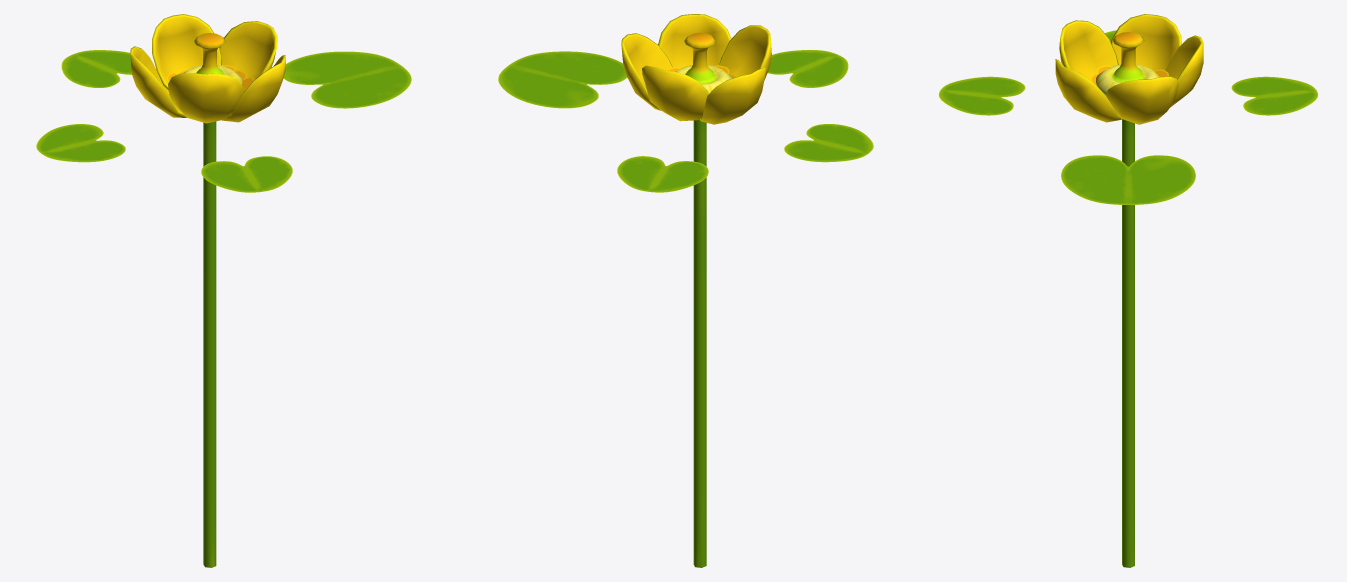
File: obj_WaterLily_Big.fbx
3 views of the same model, side by side, from view 1: azimuth 30°, elevation 25°; view 2: azimuth 150°, elevation 25°; view 3: azimuth 270°, elevation 25° (orthographic).
Parts seen in each view (by area): view 1: Pestle_low, Leaf_b_high, Petal_low002, Petal_low, Leaf_s_low001, Leaf_s_low002, Petal_low004, Leaf_s_low, Petal_low001, Petal_low003; view 2: Pestle_low, Leaf_b_high, Petal_low, Leaf_s_low001, Leaf_s_low, Petal_low001, Leaf_s_low002, Petal_low003, Petal_low002, Petal_low004; view 3: Pestle_low, Leaf_b_high, Petal_low004, Leaf_s_low, Leaf_s_low002, Petal_low003, Petal_low002, Petal_low001, Petal_low.
Boxes of the visible parts, bbox=[...] form: Pestle_low: bbox=[183, 33, 242, 567]; Leaf_b_high: bbox=[283, 51, 411, 108]; Petal_low002: bbox=[168, 73, 243, 123]; Petal_low: bbox=[152, 14, 221, 89]; Leaf_s_low001: bbox=[36, 124, 125, 162]; Leaf_s_low002: bbox=[201, 156, 292, 192]; Petal_low004: bbox=[219, 21, 277, 79]; Leaf_s_low: bbox=[61, 50, 131, 87]; Petal_low001: bbox=[222, 55, 285, 122]; Petal_low003: bbox=[130, 46, 186, 117]; Pestle_low: bbox=[675, 33, 731, 567]; Leaf_b_high: bbox=[498, 51, 626, 108]; Petal_low: bbox=[642, 65, 708, 121]; Leaf_s_low001: bbox=[784, 124, 873, 162]; Leaf_s_low: bbox=[617, 156, 708, 192]; Petal_low001: bbox=[658, 14, 731, 68]; Leaf_s_low002: bbox=[767, 50, 848, 87]; Petal_low003: bbox=[700, 67, 766, 124]; Petal_low002: bbox=[719, 25, 771, 80]; Petal_low004: bbox=[621, 33, 672, 110]; Pestle_low: bbox=[1096, 32, 1159, 567]; Leaf_b_high: bbox=[1061, 155, 1195, 204]; Petal_low004: bbox=[1106, 76, 1178, 124]; Leaf_s_low: bbox=[1231, 76, 1317, 115]; Leaf_s_low002: bbox=[939, 76, 1025, 115]; Petal_low003: bbox=[1111, 14, 1181, 71]; Petal_low002: bbox=[1059, 20, 1118, 80]; Petal_low001: bbox=[1055, 59, 1122, 122]; Petal_low: bbox=[1165, 35, 1203, 107].
Bounding box in the file's own units: 54.84 × 52.83 × 75.36.
Materials: 1 (1 with a texture image).
